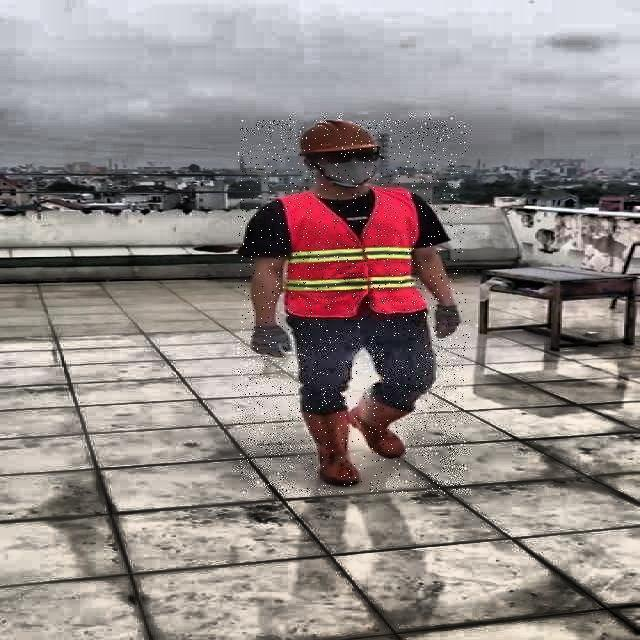safety_helmet: (293, 119, 385, 158)
safety_jacket: (278, 188, 430, 315)
